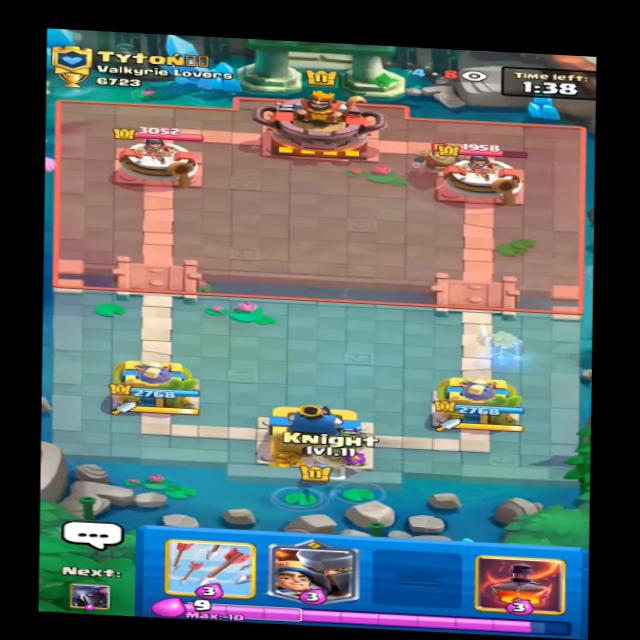knight: (405, 133, 478, 171)
